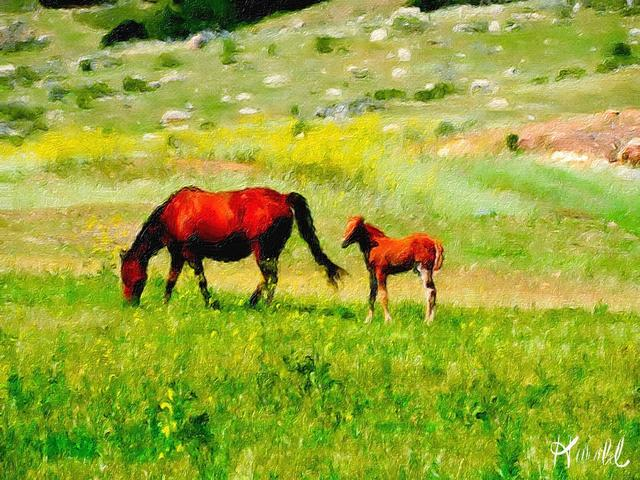horse: (100, 161, 338, 352), (346, 186, 498, 316)
